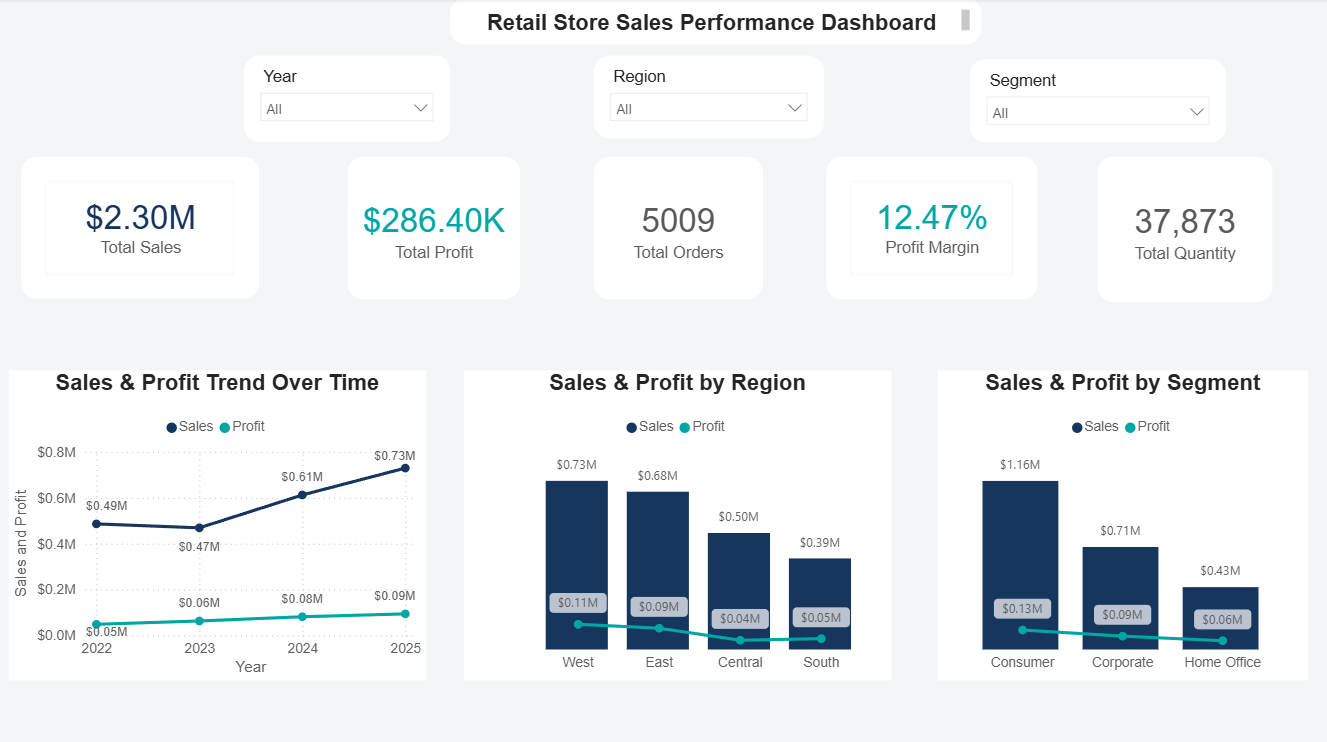

The dashboard page shown, as its layout file describes it:
{"tool":"powerbi","page":{"name":"Overall Performance","canvas":[1280,720],"ordinal":0},"visuals":[{"type":"card","fields":{"Values":["Sum(Copy of Retail Sales Data - orders_cleaned.profit)"]},"box":[335.4,153.2,166.5,137.5],"z":0},{"type":"card","fields":{"Values":["Count(Copy of Retail Sales Data - orders_cleaned.order_id)"]},"box":[573.1,153.2,162.9,137.5],"z":1000},{"type":"card","fields":{"Values":["Sum(Copy of Retail Sales Data - orders_cleaned.quantity)"]},"box":[1059.3,153.2,168.8,139.9],"z":2000},{"type":"cardVisual","fields":{"Data":["Measure.Profit margin"]},"box":[797.5,153.2,203.9,137.5],"z":3000},{"type":"lineChart","title":"Sales & Profit Trend Over Time","fields":{"Category":["Copy of Retail Sales Data - orders_cleaned.order_year"],"Y":["Sum(Copy of Retail Sales Data - orders_cleaned.sales)","Sum(Copy of Retail Sales Data - orders_cleaned.profit)"]},"box":[8.4,359.5,403,299.2],"z":4000},{"type":"lineStackedColumnComboChart","title":"Sales & Profit by Region","fields":{"Category":["Copy of Retail Sales Data - orders_cleaned.region"],"Y":["Sum(Copy of Retail Sales Data - orders_cleaned.sales)"],"Y2":["Sum(Copy of Retail Sales Data - orders_cleaned.profit)"]},"box":[447.6,359.5,412.9,299],"z":5000},{"type":"slicer","title":"Year","fields":{"Values":["Copy of Retail Sales Data - orders_cleaned.order_year"]},"box":[235.3,55.5,199.1,83.2],"z":6000},{"type":"slicer","fields":{"Values":["Copy of Retail Sales Data - orders_cleaned.region"]},"box":[573.1,55.5,222.5,80.1],"z":7000},{"type":"slicer","fields":{"Values":["Copy of Retail Sales Data - orders_cleaned.segment"]},"box":[936.2,59.1,247.3,79.6],"z":8000},{"type":"lineClusteredColumnComboChart","title":"Sales & Profit by Segment","fields":{"Category":["Copy of Retail Sales Data - orders_cleaned.segment"],"Y":["Sum(Copy of Retail Sales Data - orders_cleaned.sales)"],"Y2":["Sum(Copy of Retail Sales Data - orders_cleaned.profit)"]},"box":[904.9,359.5,357.7,299],"z":9000},{"type":"textbox","box":[434.3,0,512.7,44.6],"z":10000},{"type":"cardVisual","fields":{"Data":["Sum(Copy of Retail Sales Data - orders_cleaned.sales)"]},"box":[20.5,153.2,229.4,137.1],"z":11000}]}

Visuals, with their boxes in screenshot pixels (x1, y1, x2, y2), scaled from the page's 1280x720 canvas onto the 1327x742 screenshot:
card - Sum(Copy of Retail Sales Data - orders_cleaned.profit): bbox(348, 158, 520, 300)
card - Count(Copy of Retail Sales Data - orders_cleaned.order_id): bbox(594, 158, 763, 300)
card - Sum(Copy of Retail Sales Data - orders_cleaned.quantity): bbox(1098, 158, 1273, 302)
cardVisual - Measure.Profit margin: bbox(827, 158, 1038, 300)
"Sales & Profit Trend Over Time" lineChart: bbox(9, 370, 427, 679)
"Sales & Profit by Region" lineStackedColumnComboChart: bbox(464, 370, 892, 679)
"Year" slicer: bbox(244, 57, 450, 143)
slicer - Copy of Retail Sales Data - orders_cleaned.region: bbox(594, 57, 825, 140)
slicer - Copy of Retail Sales Data - orders_cleaned.segment: bbox(971, 61, 1227, 143)
"Sales & Profit by Segment" lineClusteredColumnComboChart: bbox(938, 370, 1309, 679)
textbox: bbox(450, 0, 982, 46)
cardVisual - Sum(Copy of Retail Sales Data - orders_cleaned.sales): bbox(21, 158, 259, 299)
